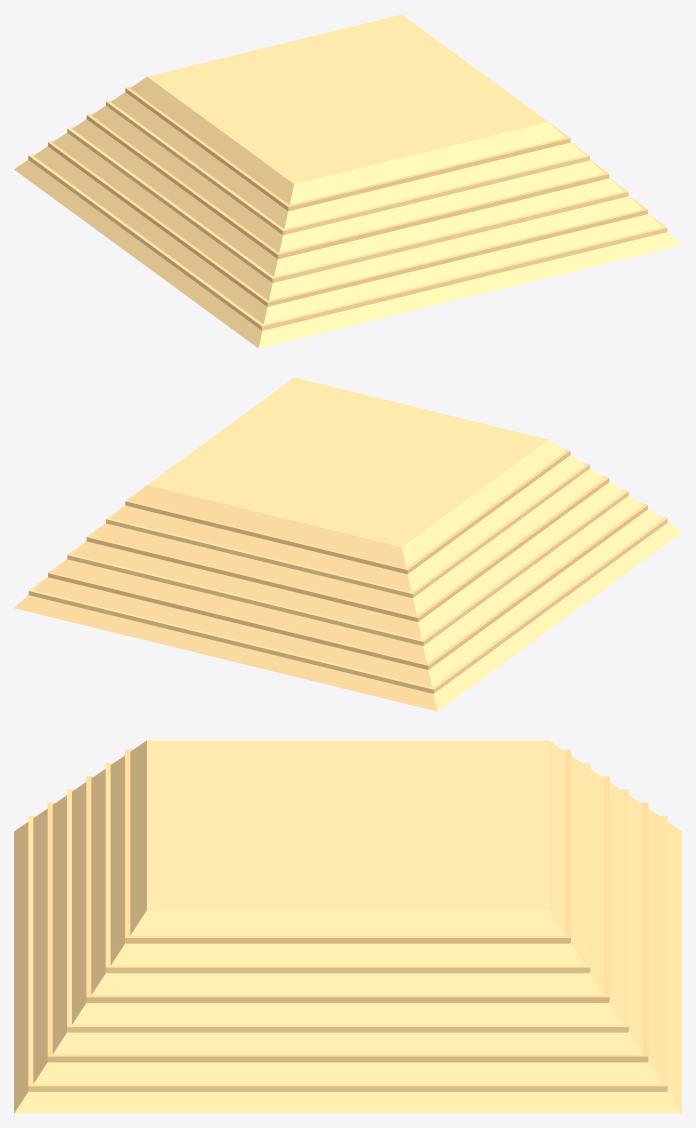
Rendered from giza-queen-ruin.glb.
3 renders of one model, top to bottom at view 1: azimuth 30°, elevation 25°; view 2: azimuth 150°, elevation 25°; view 3: azimuth 270°, elevation 25°, orthographic. The views are drawn at different scales.
Bounding box in the file's own units: 45.1 × 10.99 × 45.1.
